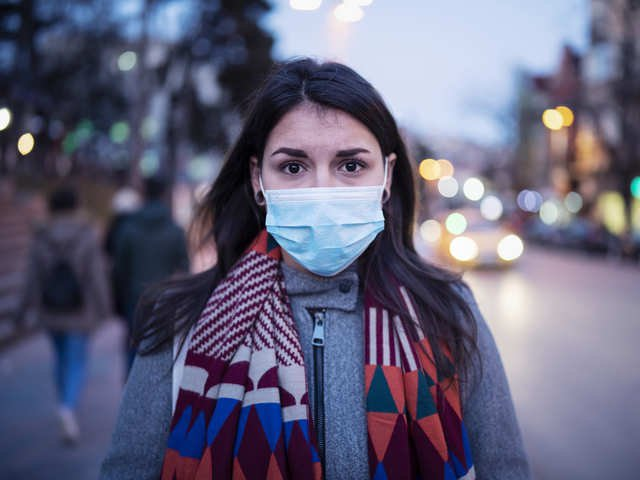mask: (230, 72, 415, 274)
